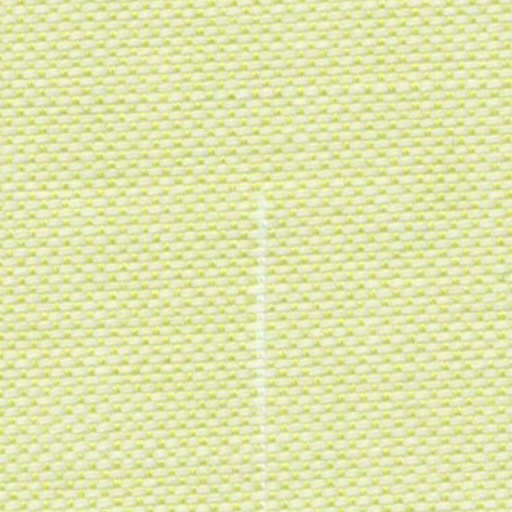DaiSha: (240, 186, 289, 460)
